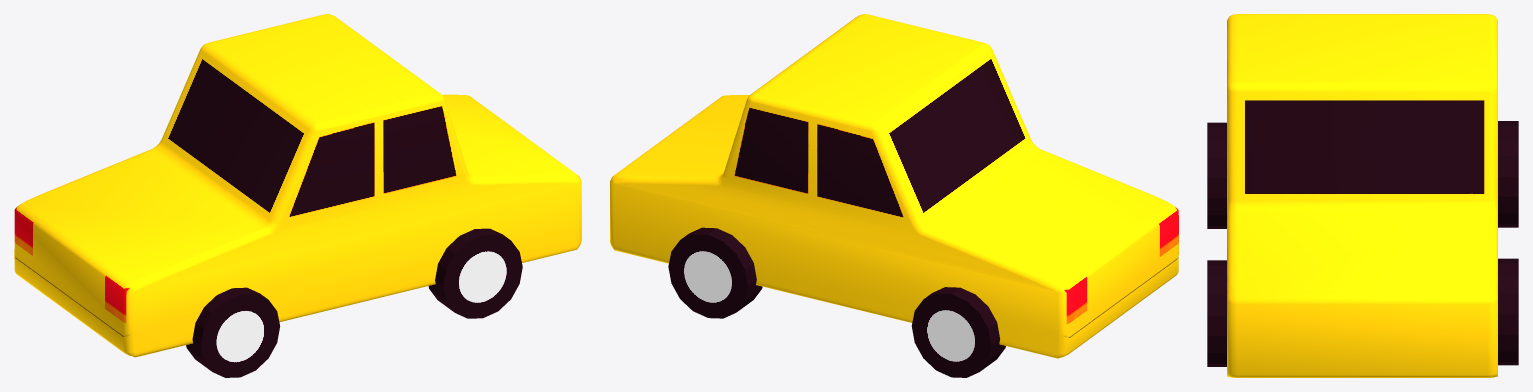
File: yellow_car.glb
The picture shows the model from 3 angles, left to right: view 1: azimuth 30°, elevation 25°; view 2: azimuth 150°, elevation 25°; view 3: azimuth 270°, elevation 25°; orthographic projection. The views are drawn at different scales.
Parts seen in each view (by area): view 1: Yellow_Car; view 2: Yellow_Car; view 3: Yellow_Car.
Part boxes in pixels (x1,y1,x2,y2): Yellow_Car: [14, 14, 581, 377]; Yellow_Car: [610, 14, 1178, 377]; Yellow_Car: [1207, 14, 1518, 377].
Size of the model in its own units: 0.581 by 0.2715 by 0.2942.
Materials: 1 (1 with a texture image).
